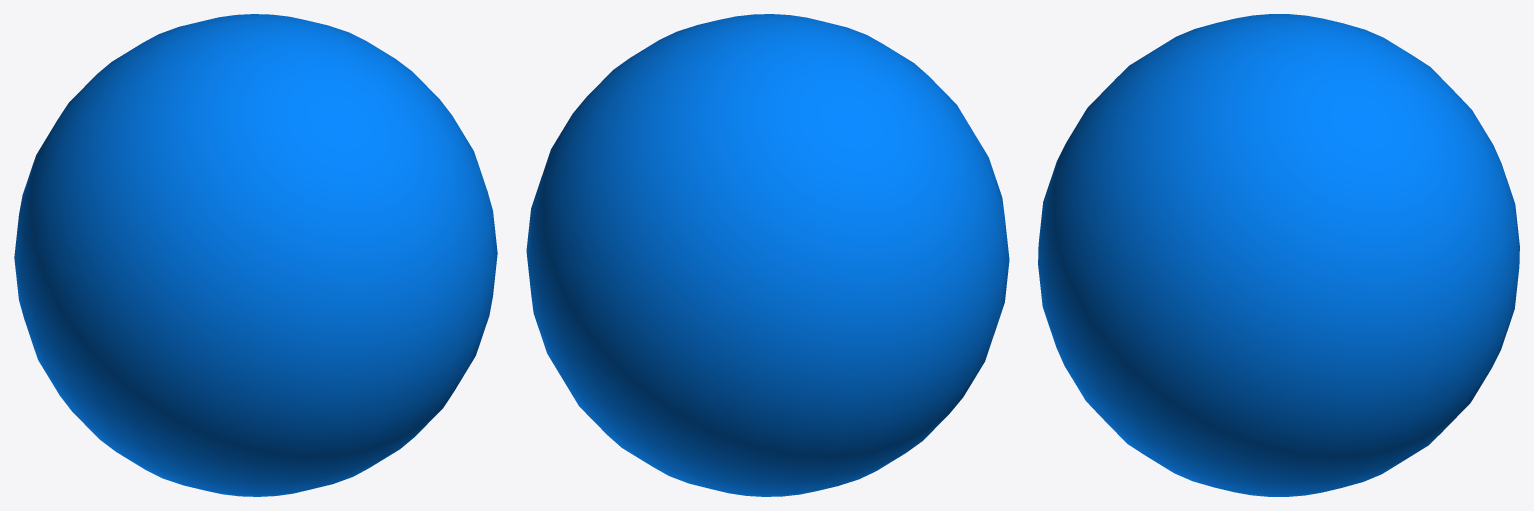
The picture shows the model from 3 angles, left to right: view 1: azimuth 30°, elevation 25°; view 2: azimuth 150°, elevation 25°; view 3: azimuth 270°, elevation 25°; orthographic projection.
Parts seen in each view (by area): view 1: Sphere052; view 2: Sphere052; view 3: Sphere052.
Part boxes in pixels (x1,y1,x2,y2): Sphere052: (14,14,497,496); Sphere052: (526,14,1009,496); Sphere052: (1038,14,1519,496).
Size of the model in its own units: 8.19 by 8.22 by 8.19.
